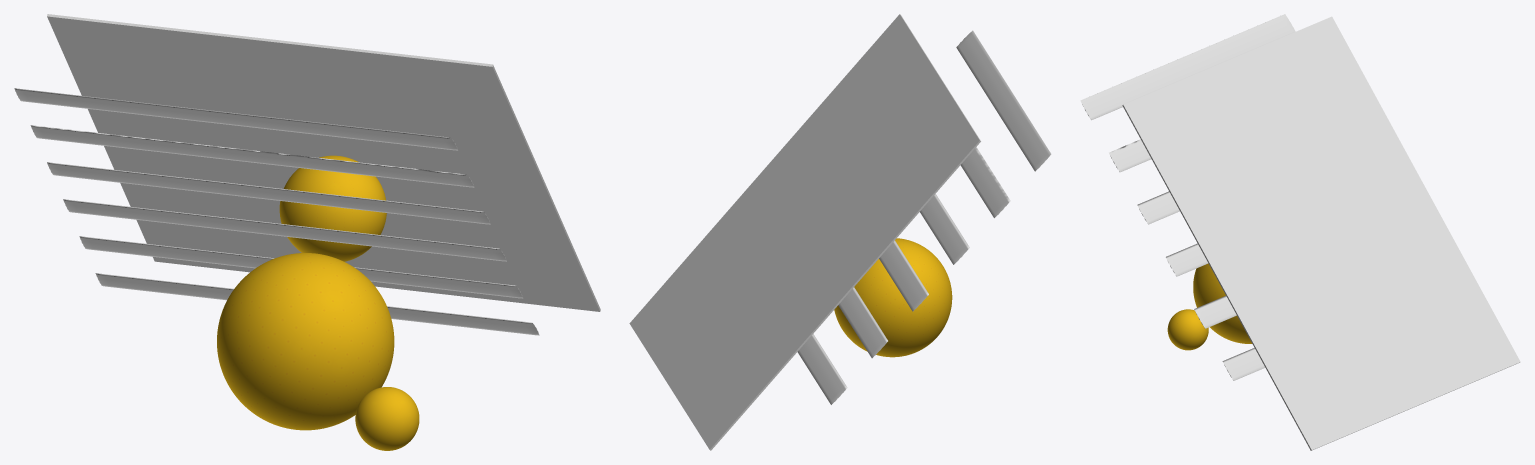
Rendered from SLS_201204_cables_Szene.glb.
3 views of the same model, side by side, from view 1: azimuth 30°, elevation 25°; view 2: azimuth 150°, elevation 25°; view 3: azimuth 270°, elevation 25° (orthographic). The views are drawn at different scales.
Visible parts, largest first — view 1: Cube, Volume_Mesher_1, Sphere_3, Sphere_4, Sphere_5; view 2: Cube, Volume_Mesher_1, Sphere_3; view 3: Cube, Volume_Mesher_1, Sphere_3, Sphere_5.
Boxes of the visible parts, <box> form: Cube: <box>47,14,600,311</box>; Volume_Mesher_1: <box>14,88,539,335</box>; Sphere_3: <box>217,253,394,430</box>; Sphere_4: <box>279,155,386,261</box>; Sphere_5: <box>355,387,419,450</box>; Cube: <box>629,14,980,450</box>; Volume_Mesher_1: <box>797,30,1051,404</box>; Sphere_3: <box>834,238,952,357</box>; Cube: <box>1122,16,1520,450</box>; Volume_Mesher_1: <box>1080,14,1295,380</box>; Sphere_3: <box>1193,263,1252,343</box>; Sphere_5: <box>1167,309,1208,350</box>.
Size of the model in its own units: 7.82 by 5.12 by 7.66.
3 materials, 3 textured.
